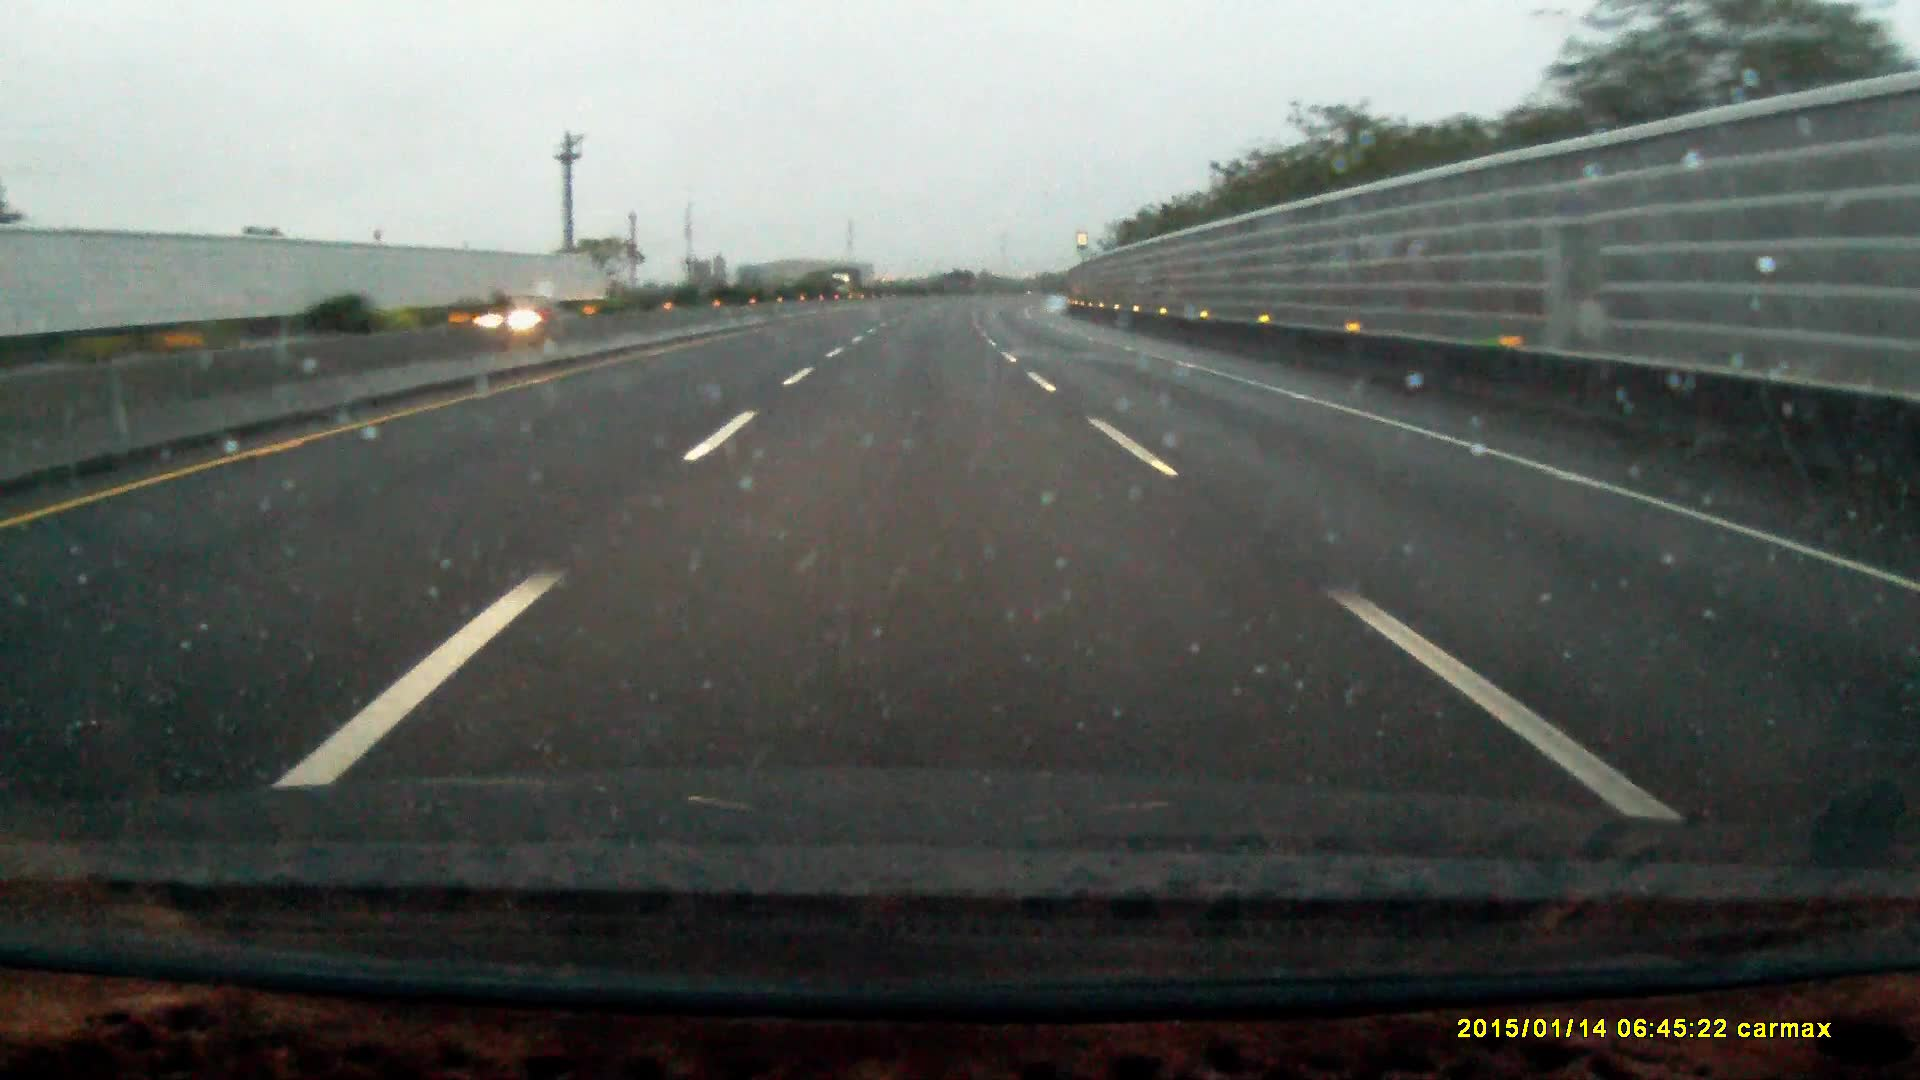vehicle: (471, 295, 579, 347), (829, 268, 862, 305)
